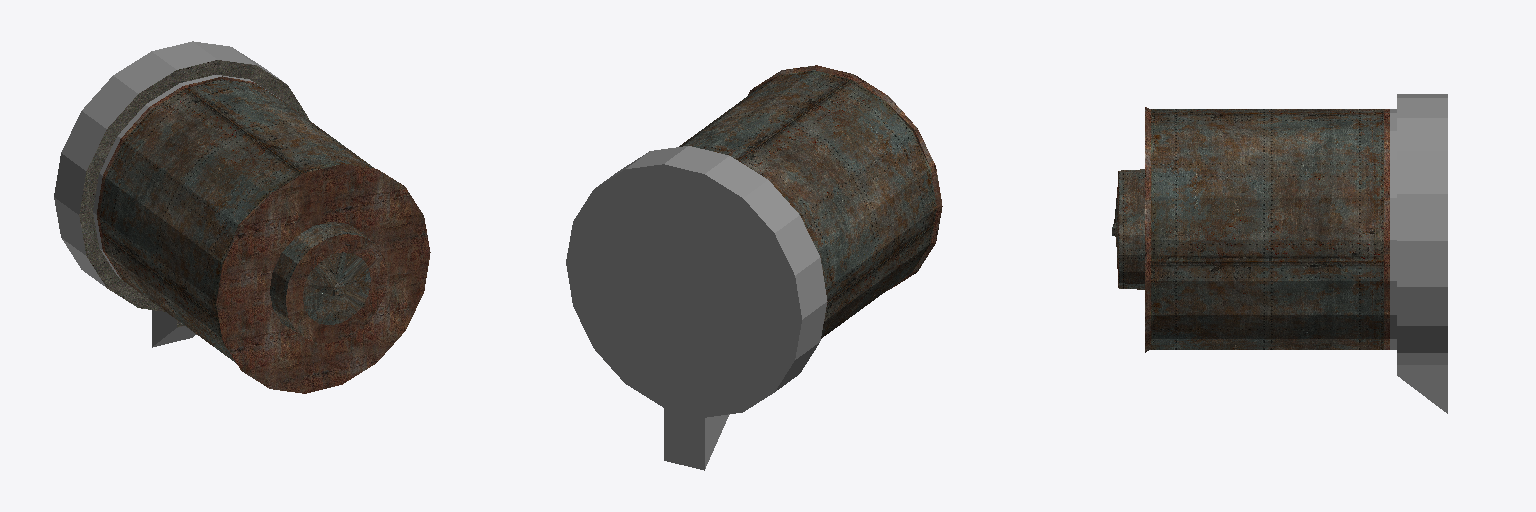
The picture shows the model from 3 angles: view 1: azimuth 30°, elevation 25°; view 2: azimuth 150°, elevation 25°; view 3: azimuth 270°, elevation 25°; orthographic projection.
Parts seen in each view (by area): view 1: MSH_Object; view 2: MSH_Object; view 3: MSH_Object.
Part boxes in pixels (left/top/right/bottom): MSH_Object: left=54, top=41, right=430, bottom=393; MSH_Object: left=566, top=65, right=942, bottom=470; MSH_Object: left=1112, top=94, right=1447, bottom=413.
Size of the model in its own units: 31.02 by 37.18 by 38.16.
Materials: 4 (3 with a texture image).